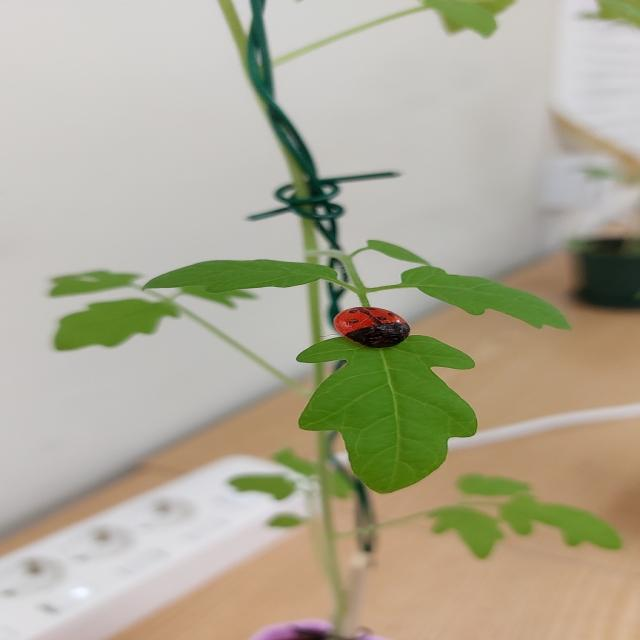bug: (306, 295, 423, 363)
